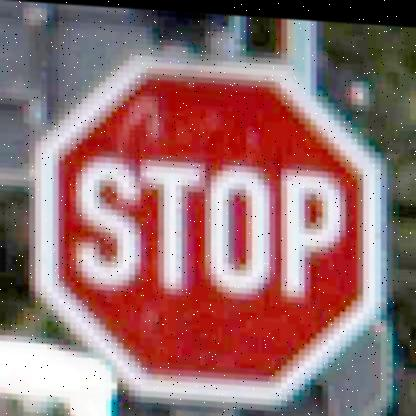Stop Sign: (28, 46, 393, 410)
